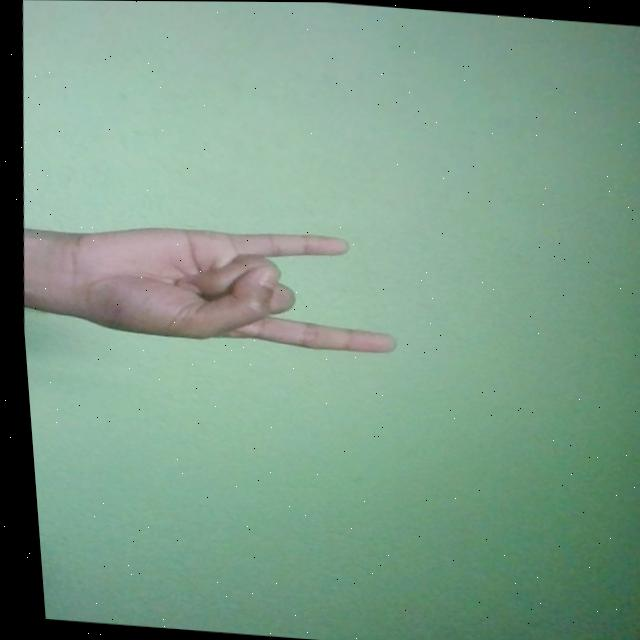Rock On: (48, 214, 399, 355)
